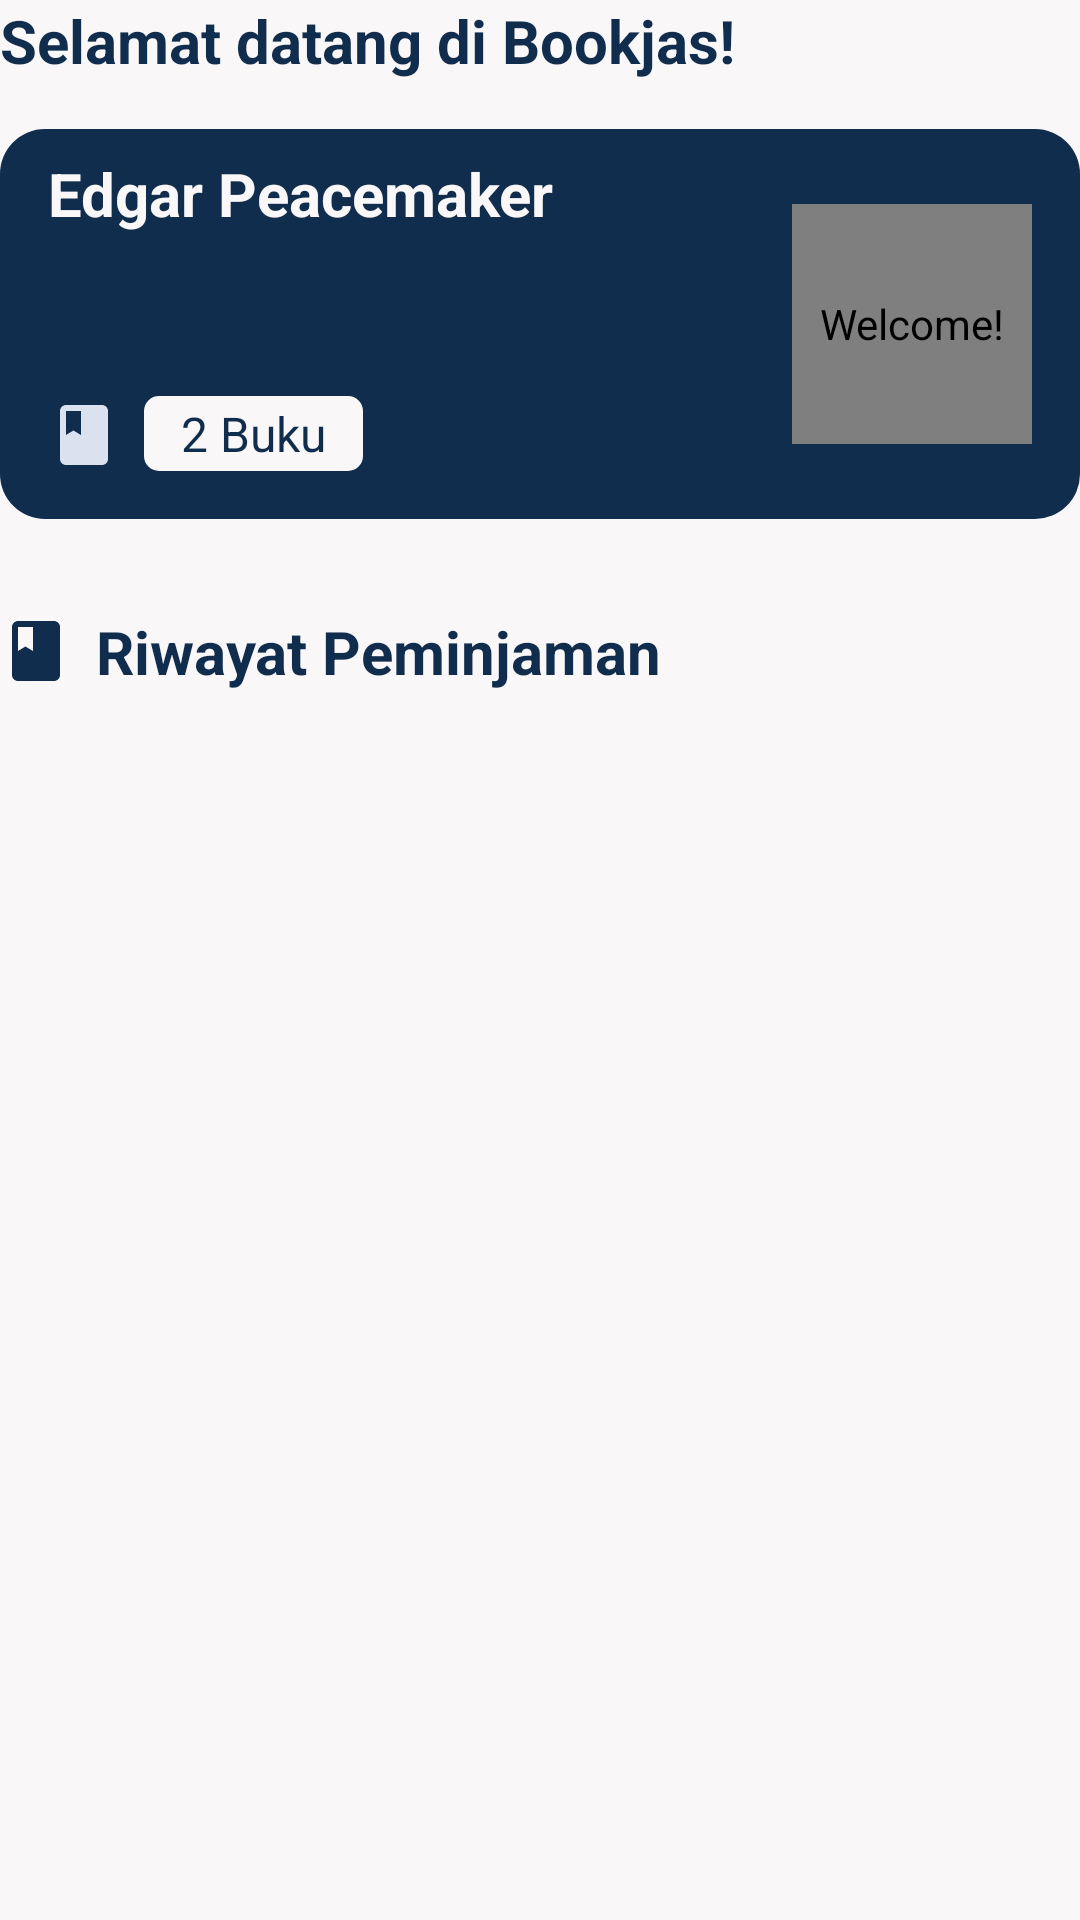

Icons on this 1080 x 1920 Android screen, each with the point to tap as point (x, y):
book navy: point (36, 651)
book putih: point (84, 435)
